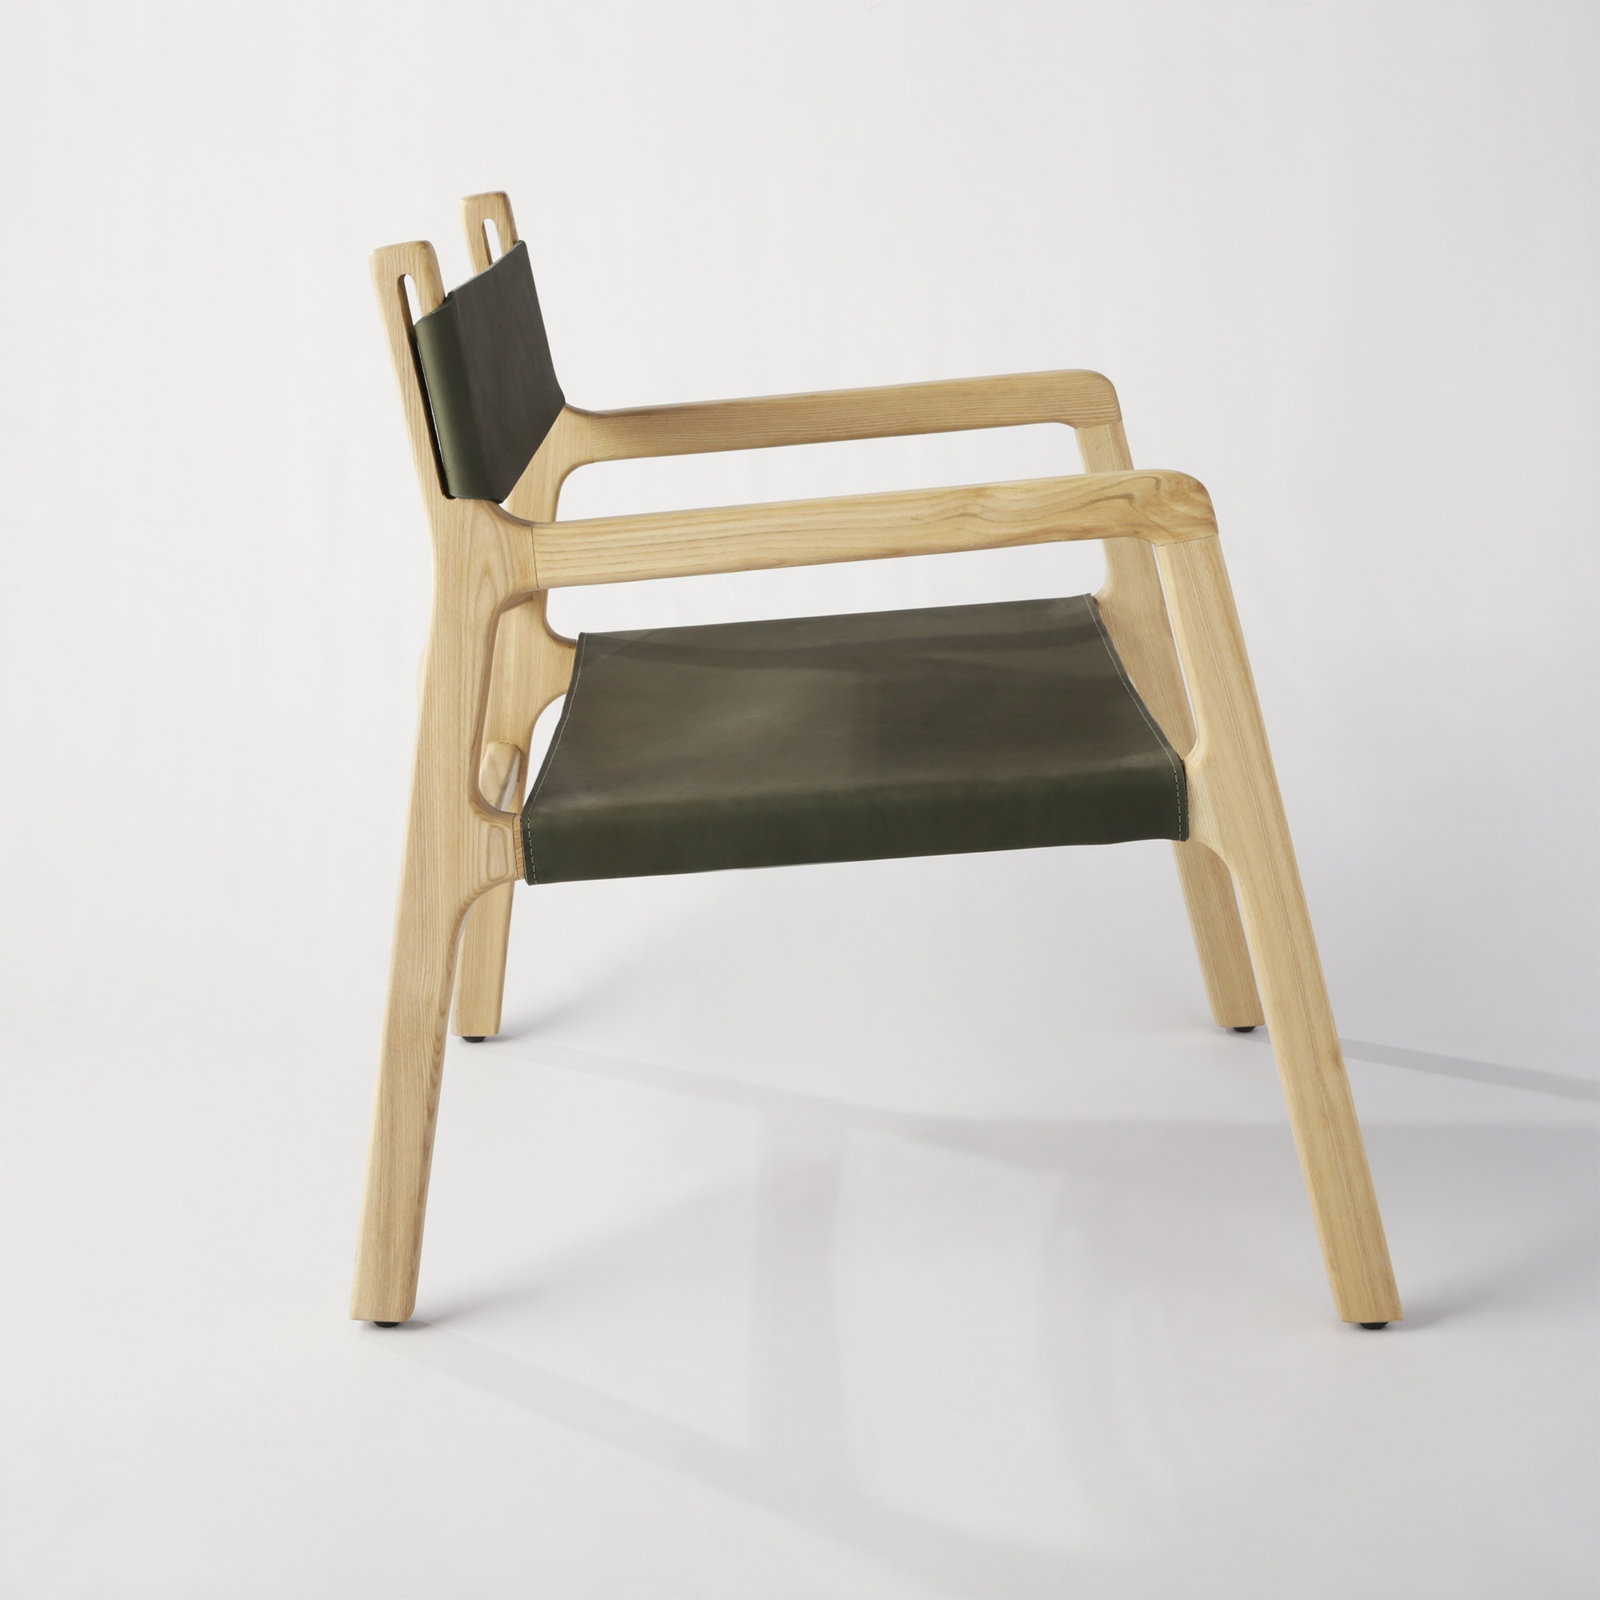obstacle: (352, 193, 1401, 1327)
